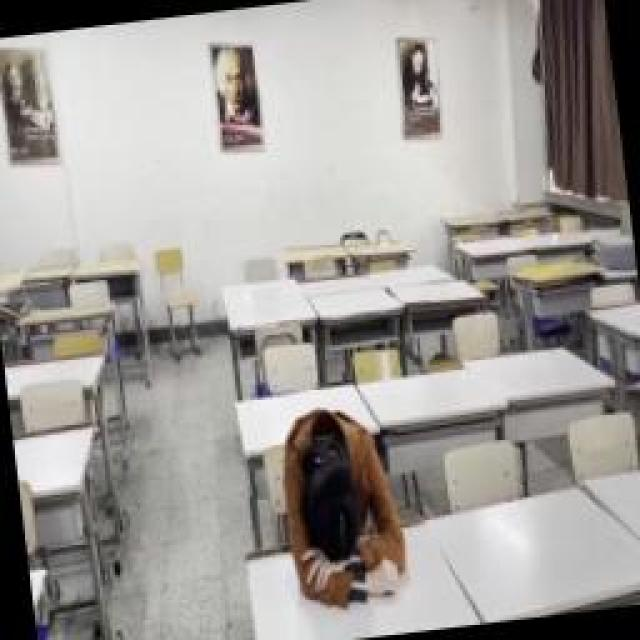sleep: (272, 395, 410, 610)
